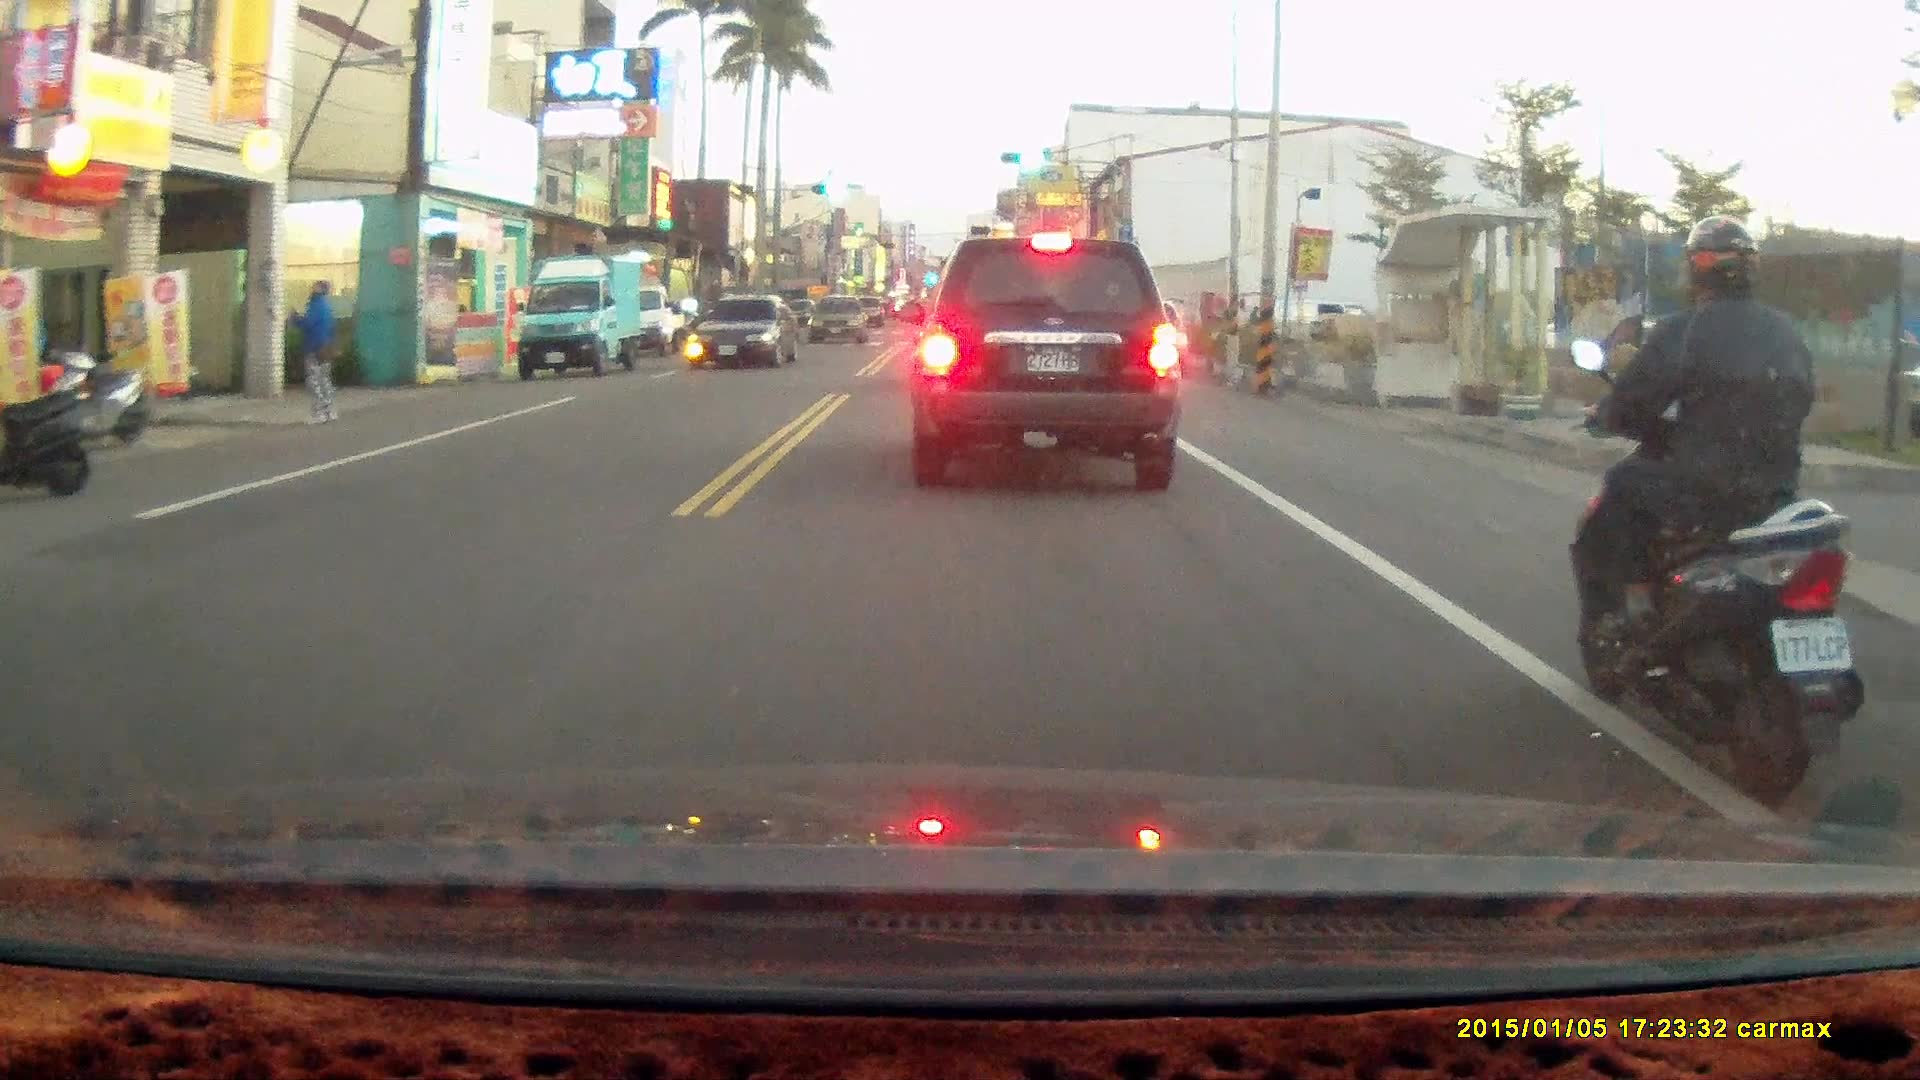pedestrian: (285, 276, 343, 427)
rider: (1565, 214, 1863, 806)
vehicle: (906, 233, 1186, 494), (520, 251, 648, 378), (685, 294, 802, 372), (809, 295, 870, 344)
